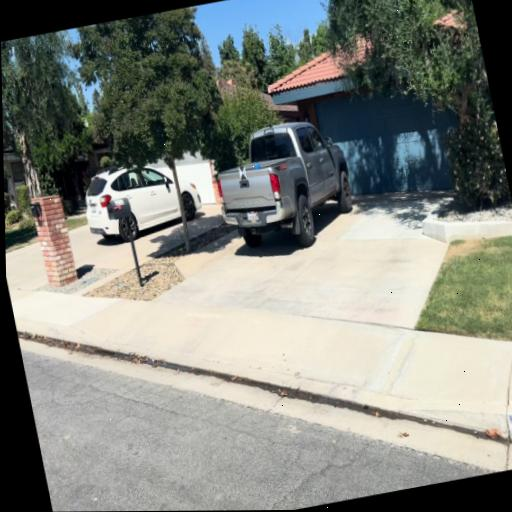target1: (238, 165, 247, 180)
